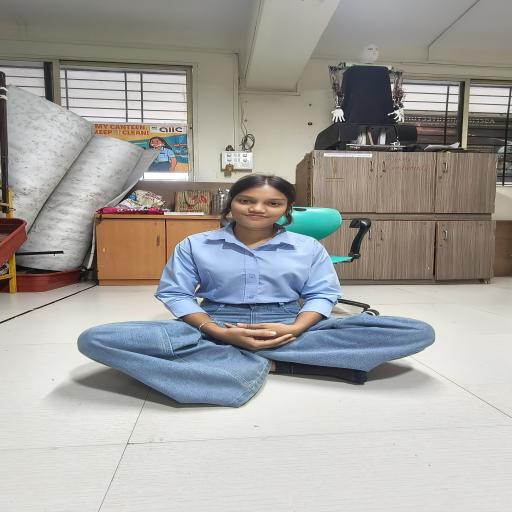survivor: (77, 174, 436, 408)
